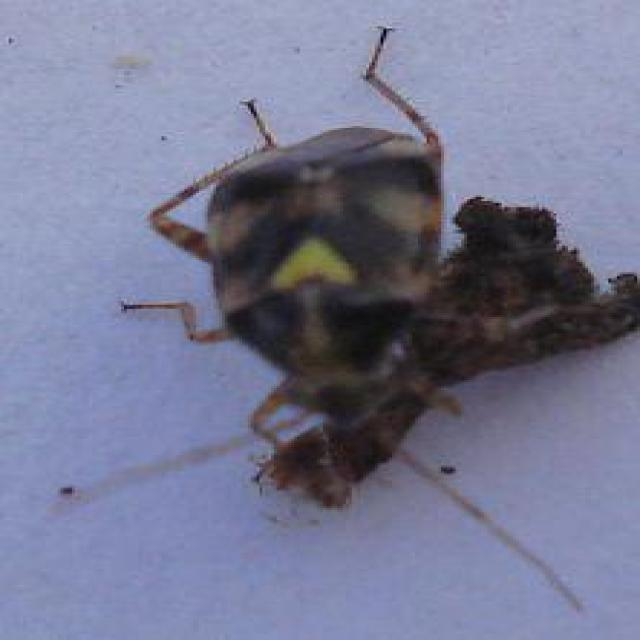Miridae-Adult-: (116, 17, 593, 622)
